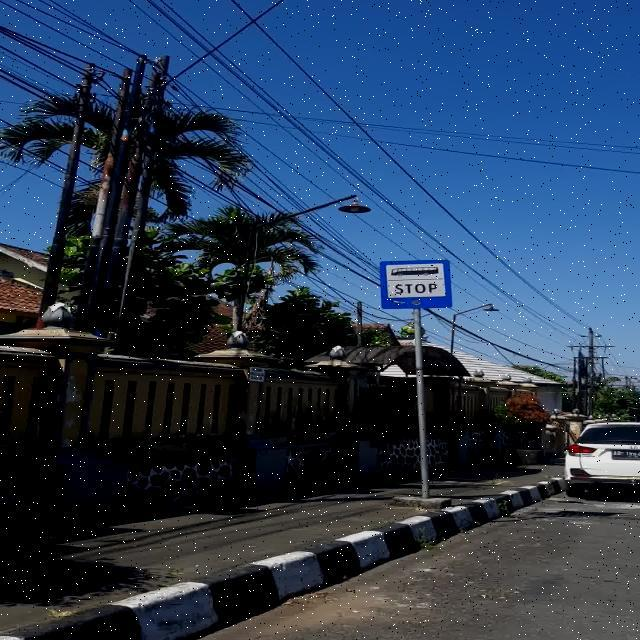Pemberhentian Bus: (379, 259, 453, 309)
